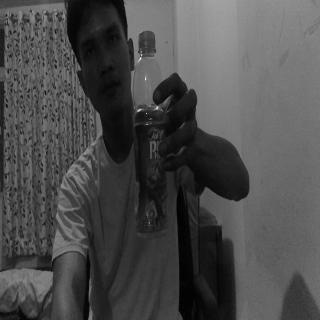plastic_bottles: (132, 29, 170, 237)
